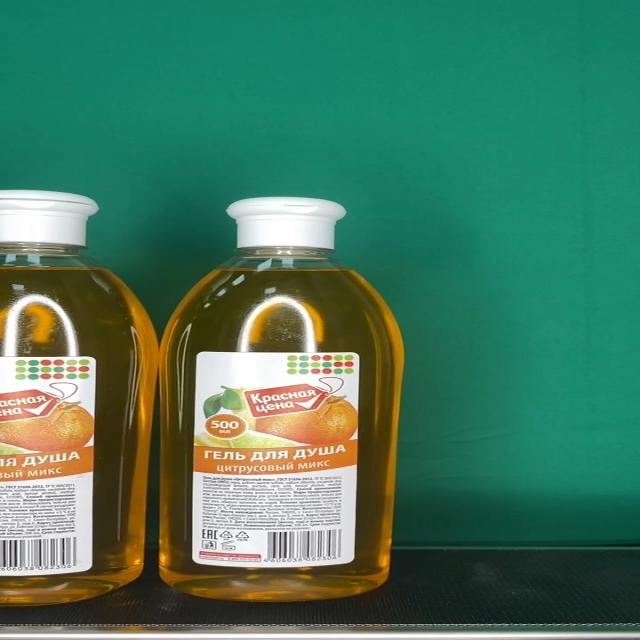Bottle: (156, 196, 404, 602)
Cap: (226, 197, 346, 249)
